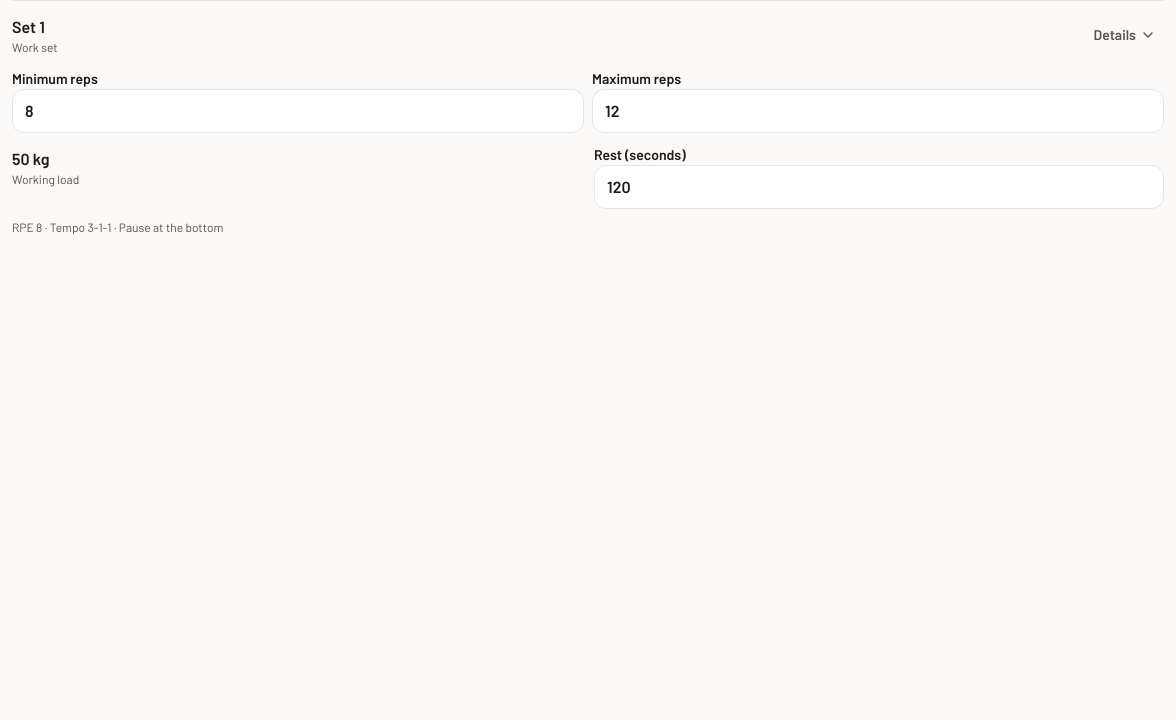
Test: prescription rows › edits reps and rest without opening advanced fields and summarizes hidden targets
Expected: the text "RPE 8 · Tempo 3-1-1 · Pause at the bottom" is shown, [12,220,223,234]
Replace the text in the number field named "Set 1 minimum reps" with "6" at (298, 111), box [12,89,584,133]
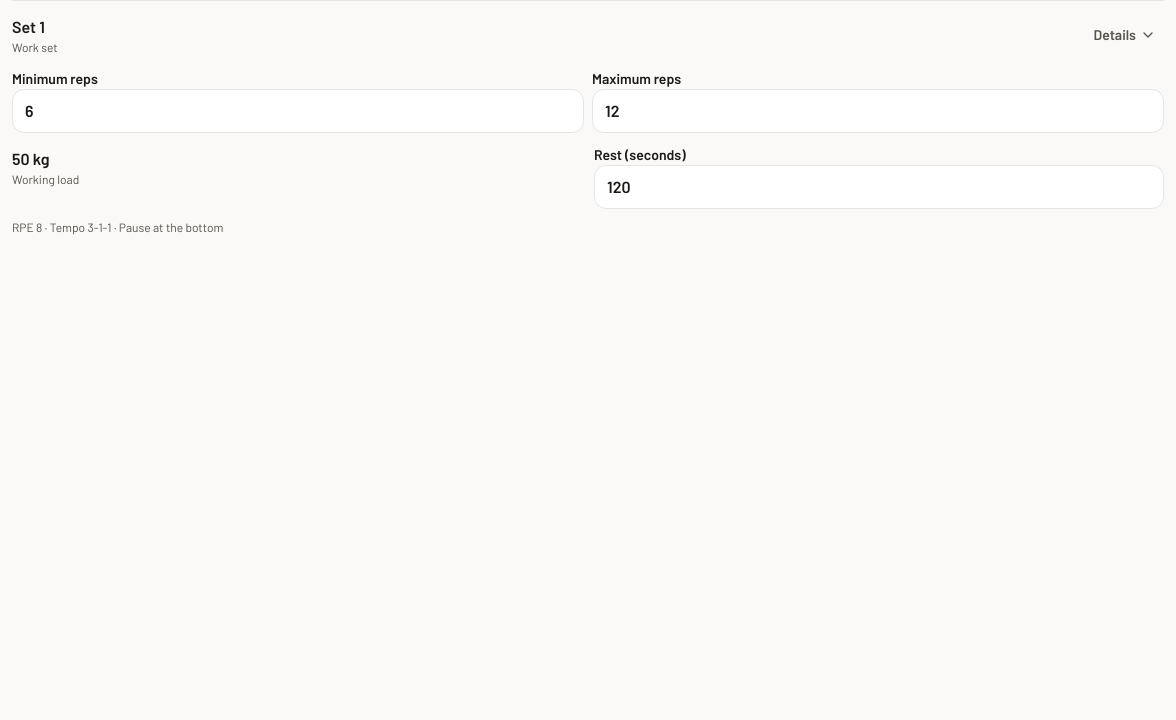
Replace the text in the number field named "Set 1 maximum reps" with "9" at (878, 111), box [592,89,1164,133]
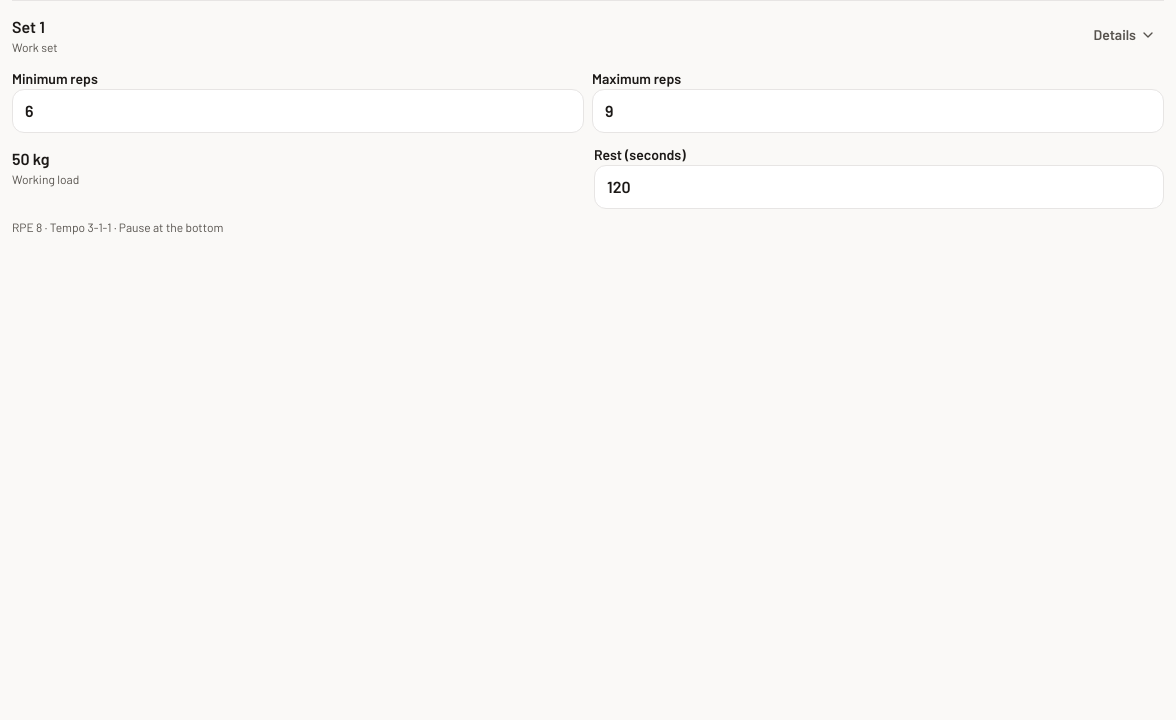
Replace the text in the number field named "Set 1 rest (seconds)" with "150" at (879, 187), box [594,165,1164,209]
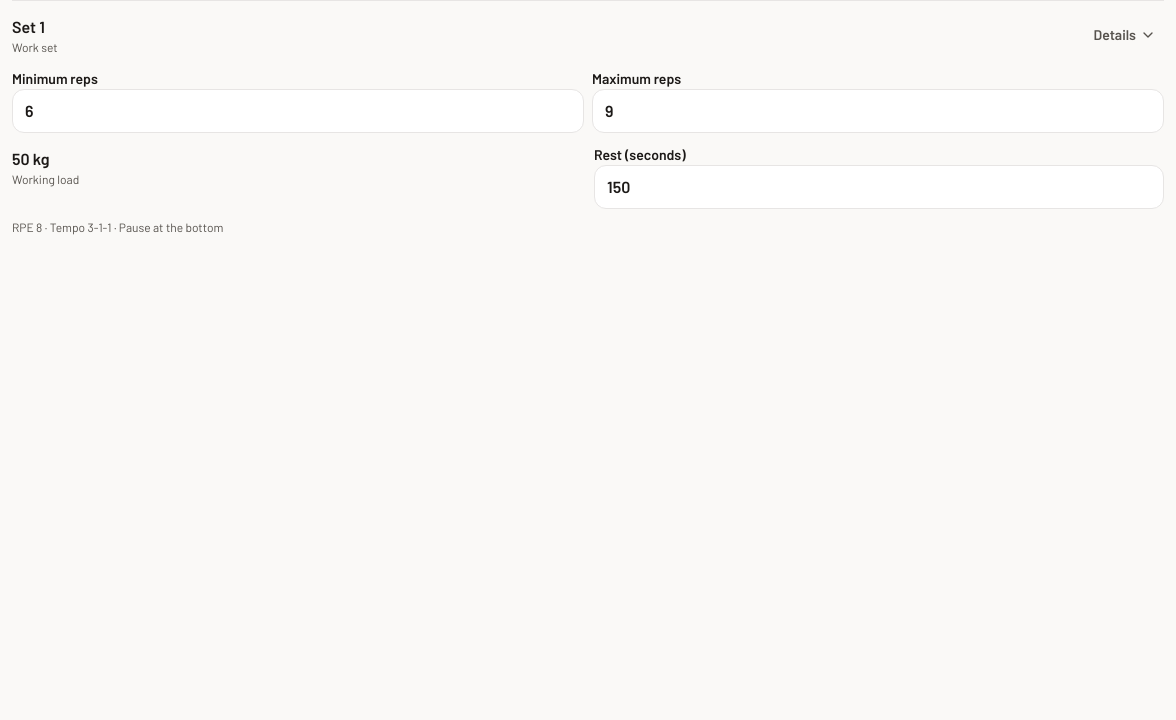
Click the button with aria-label "Set 1 details" at (1115, 34), box [594,13,1164,57]
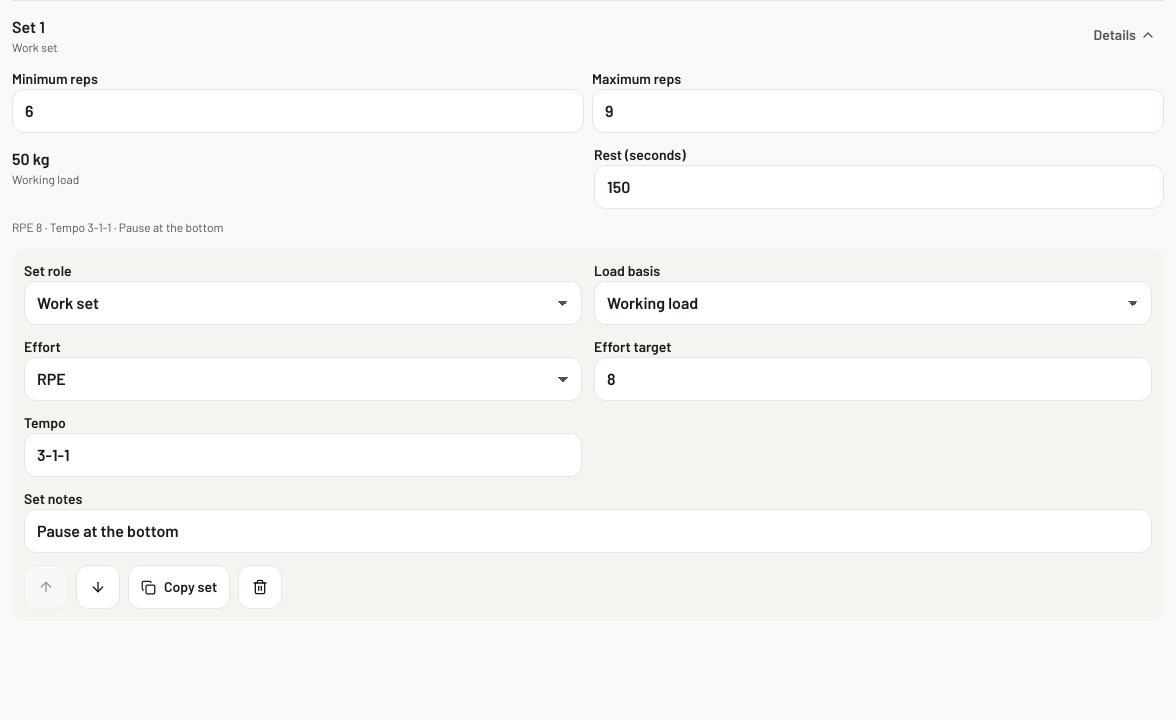
Now the button with aria-label "Set 1 details" is expanded, box [594,13,1164,57]
Now the field labelled "Tempo" holds "3-1-1", box [24,433,582,477]
Now the field labelled "Set notes" holds "Pause at the bottom", box [24,509,1152,553]
